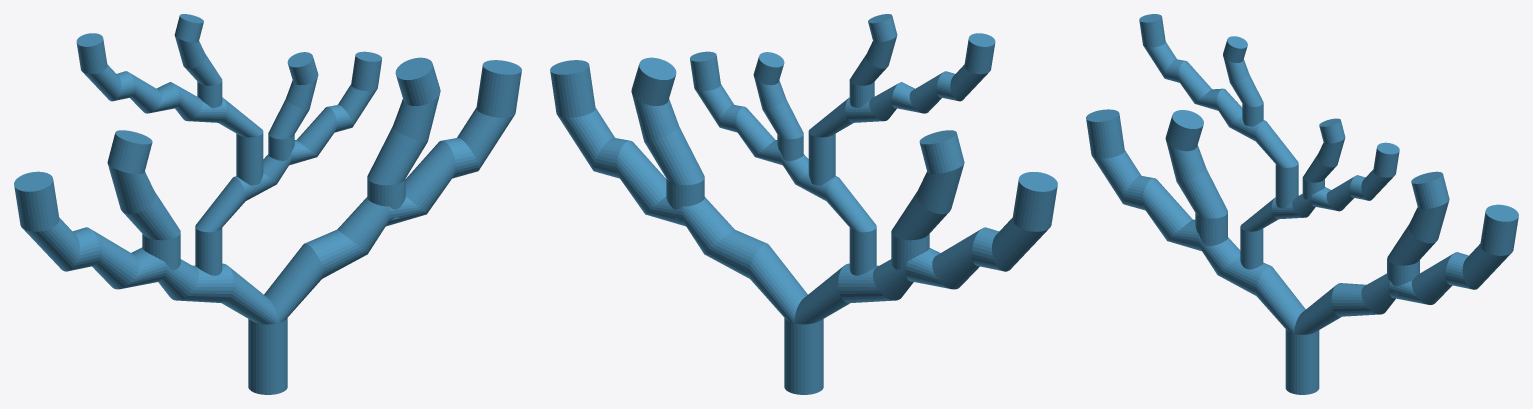
The picture shows the model from 3 angles, left to right: view 1: azimuth 30°, elevation 25°; view 2: azimuth 150°, elevation 25°; view 3: azimuth 330°, elevation 25°; orthographic projection. The views are drawn at different scales.
Parts seen in each view (by area): view 1: Cylinder.007; view 2: Cylinder.007; view 3: Cylinder.007.
Boxes of the visible parts, x1,y1,x2,y2 form: Cylinder.007: [14, 14, 521, 394]; Cylinder.007: [550, 14, 1057, 394]; Cylinder.007: [1086, 14, 1518, 394].
Size of the model in its own units: 1.36 by 1.01 by 0.0927.
